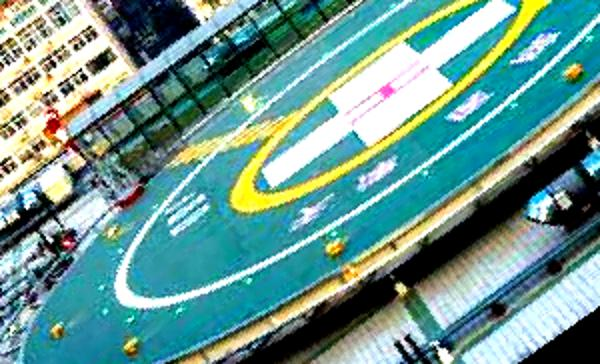Apron: (226, 2, 558, 221)
